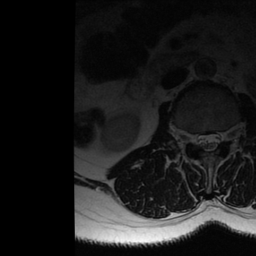CCS_normal: (205, 127, 212, 156)
LFS_normal: (221, 124, 228, 145)
LLS_normal: (213, 127, 220, 152)
RFS_normal: (189, 126, 197, 148)
RLS_normal: (197, 129, 205, 152)
